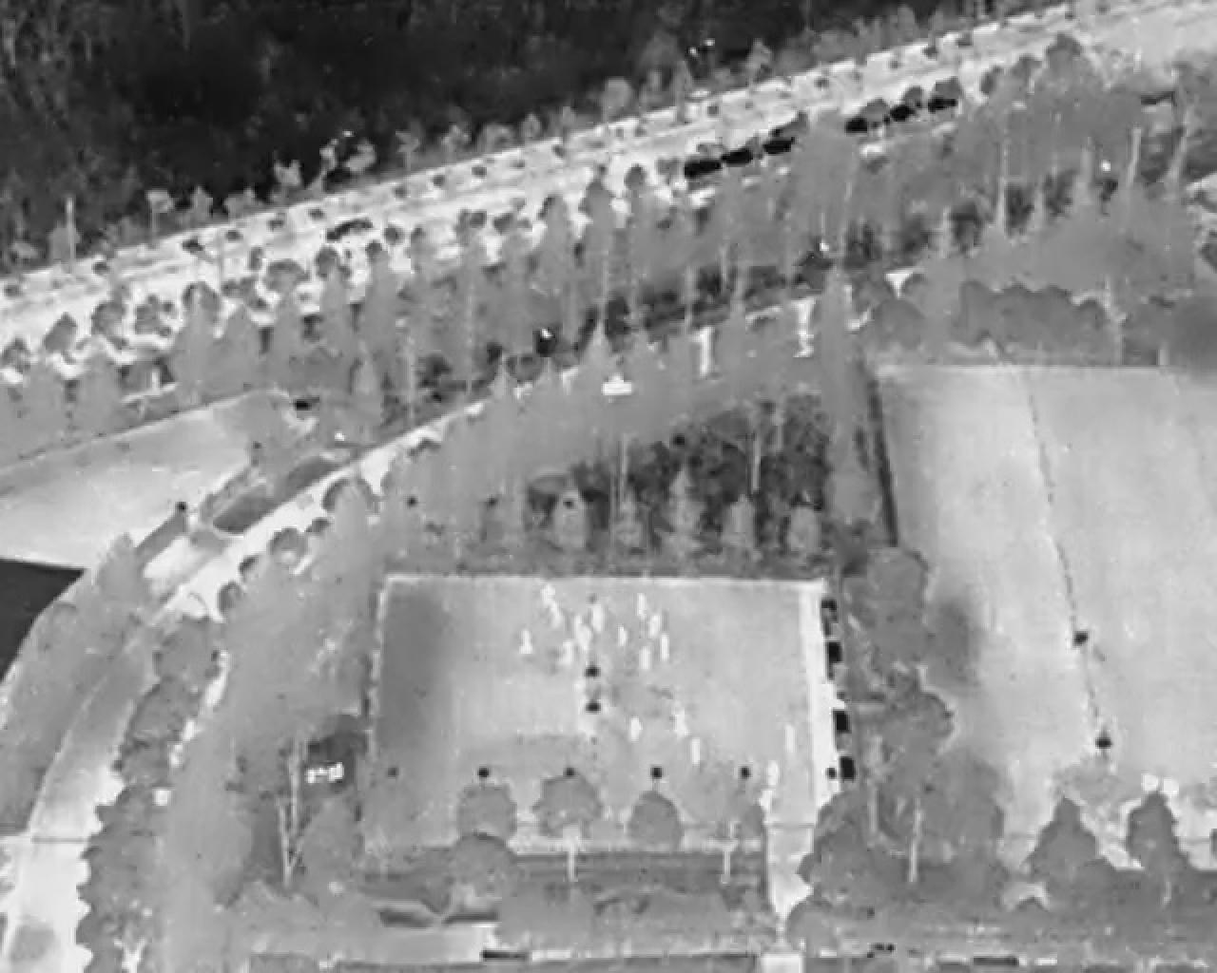person: (590, 603, 606, 634), (628, 715, 644, 744), (765, 759, 781, 788), (520, 628, 535, 657), (551, 603, 566, 632), (689, 738, 705, 765), (638, 645, 653, 672), (676, 708, 689, 738), (647, 615, 663, 639), (784, 725, 798, 752), (581, 626, 594, 653), (617, 624, 630, 651), (562, 639, 575, 666), (541, 586, 556, 609), (659, 632, 670, 660), (573, 615, 585, 639), (638, 596, 649, 620)
